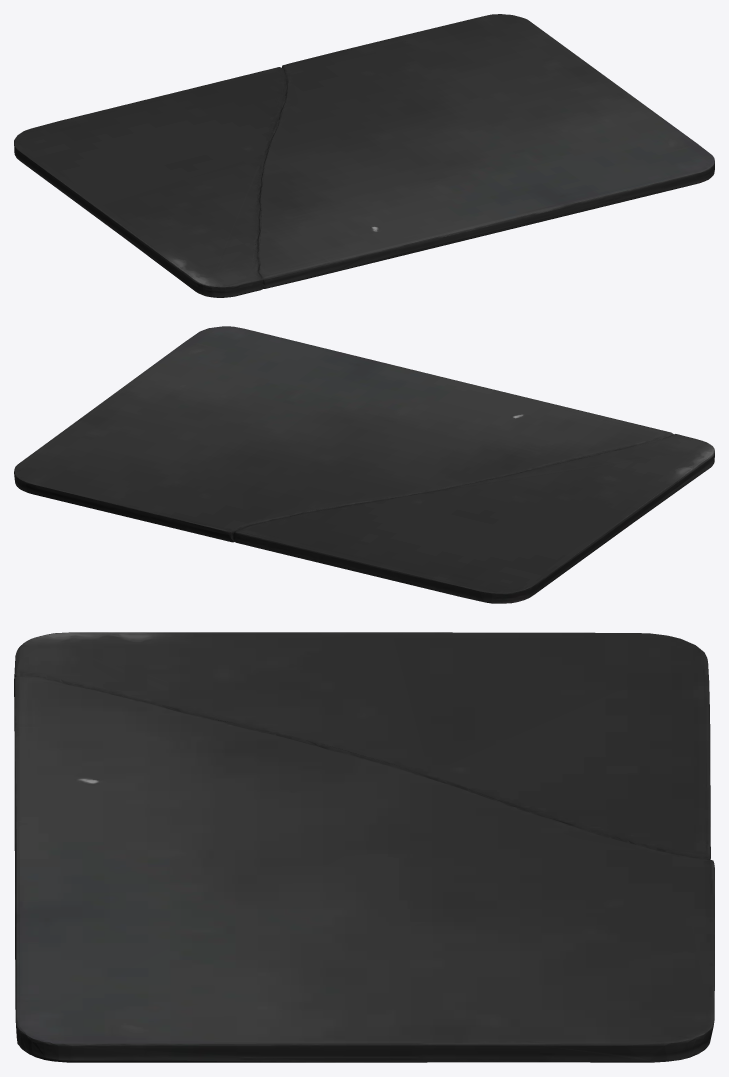
File: mousepad.glb
3 renders of one model, top to bottom at view 1: azimuth 30°, elevation 25°; view 2: azimuth 150°, elevation 25°; view 3: azimuth 270°, elevation 25°, orthographic. The views are drawn at different scales.
Visible parts, largest first — view 1: geometry_0; view 2: geometry_0; view 3: geometry_0.
Boxes of the visible parts, x1=… form: geometry_0: x1=14, y1=14, x2=714, y2=297; geometry_0: x1=14, y1=326, x2=714, y2=603; geometry_0: x1=14, y1=632, x2=714, y2=1062.
Bounding box in the file's own units: 1 × 0.0253 × 0.7195.
Materials: 1 (1 with a texture image).
